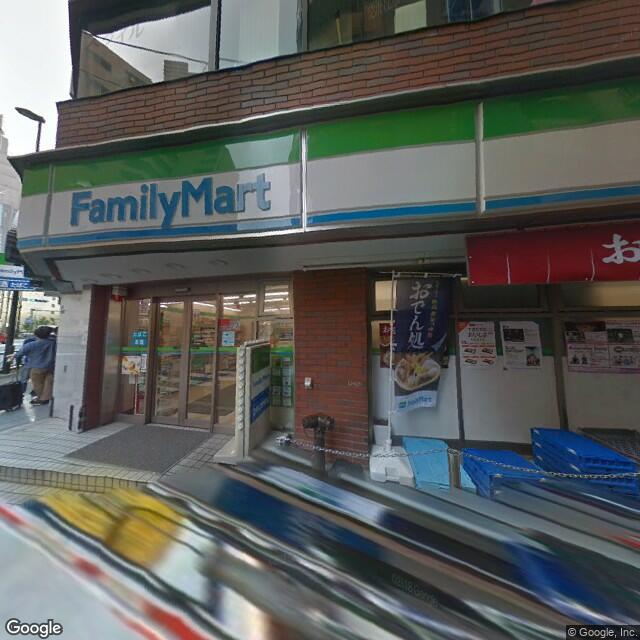family_mart: (14, 64, 636, 253), (67, 162, 280, 234), (244, 337, 275, 407)
